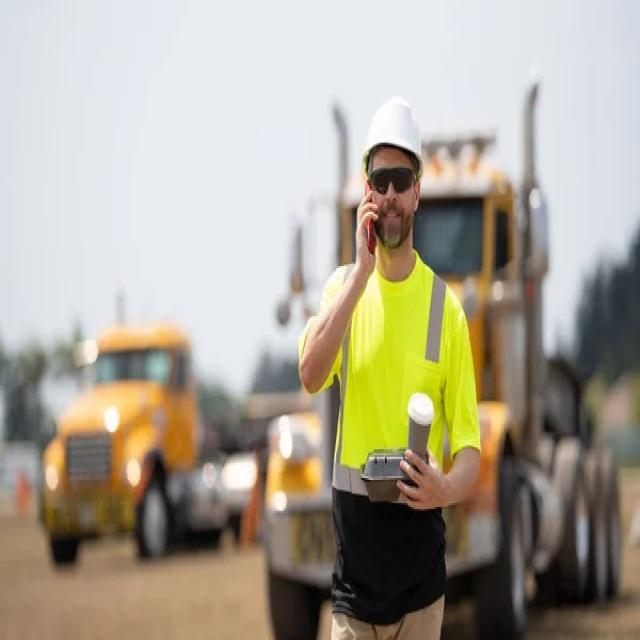secure person: (299, 100, 480, 640)
